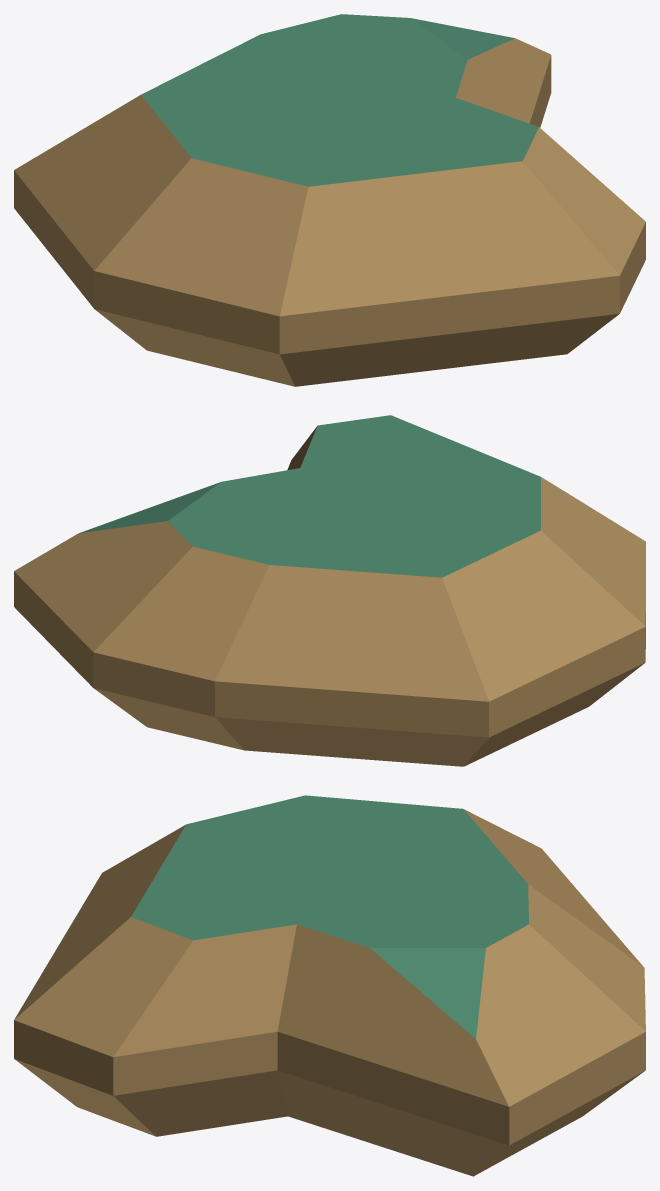
Rendered from naturePack_009.obj.
3 views of the same model, one above another, from view 1: azimuth 30°, elevation 25°; view 2: azimuth 150°, elevation 25°; view 3: azimuth 270°, elevation 25° (orthographic). The views are drawn at different scales.
Visible parts, largest first — view 1: Mesh1 Group1 Model, Wood, Green_leafs; view 2: Wood, Mesh1 Group1 Model, Green_leafs; view 3: Wood, Green_leafs, Mesh1 Group1 Model.
Boxes of the visible parts, box(x1,y1,x2,y2) form: Mesh1 Group1 Model: box(14, 127, 645, 354); Wood: box(14, 38, 619, 386); Green_leafs: box(141, 14, 538, 186); Wood: box(14, 426, 645, 766); Mesh1 Group1 Model: box(215, 565, 645, 737); Green_leafs: box(79, 415, 540, 577); Wood: box(14, 884, 645, 1176); Green_leafs: box(131, 795, 528, 1038); Mesh1 Group1 Model: box(14, 809, 643, 1095).
Size of the model in its own units: 2.95 by 0.89 by 2.82.
